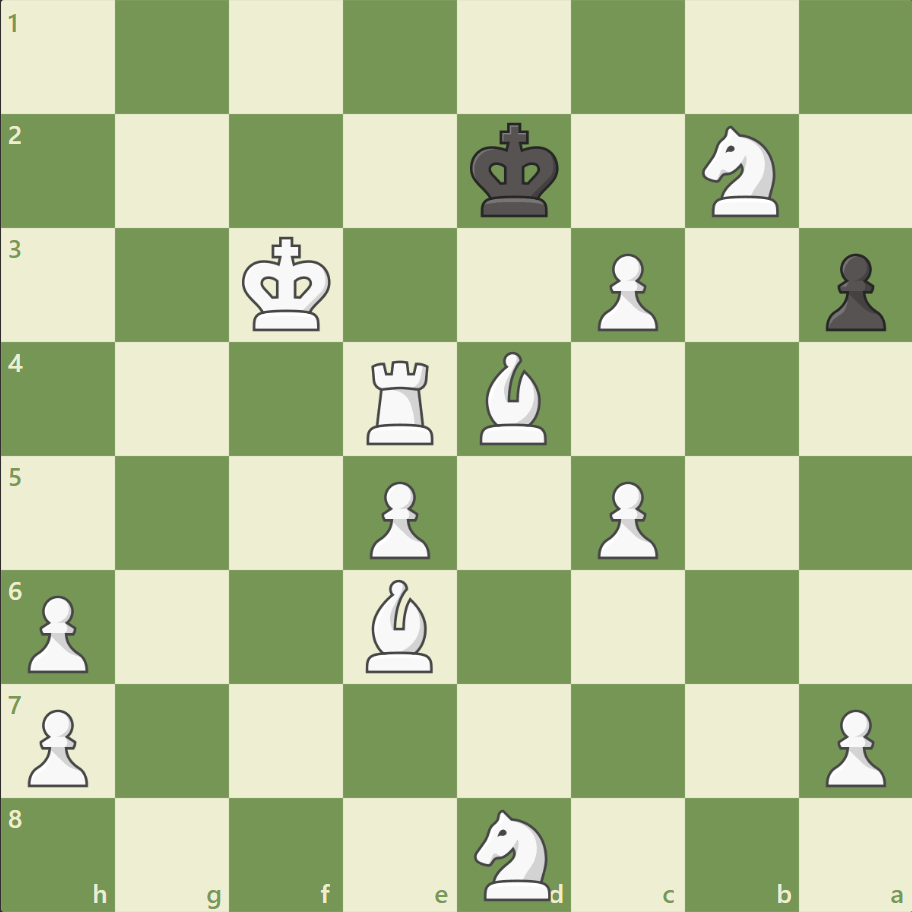B: (358, 574, 442, 676), (471, 347, 555, 449)
K: (238, 231, 338, 339)
N: (465, 802, 562, 904), (692, 121, 789, 223)
P: (20, 700, 95, 791), (20, 586, 95, 677), (815, 700, 889, 791), (588, 473, 662, 564), (361, 473, 435, 564), (588, 246, 662, 337)
R: (360, 352, 442, 449)
k: (465, 117, 565, 225)
p: (815, 246, 889, 337)
